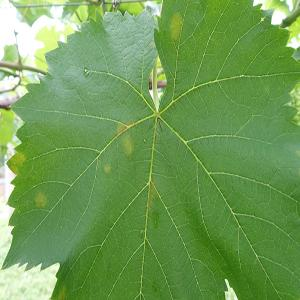Folha: (1, 0, 298, 298)
Fungo: (169, 12, 183, 46), (121, 130, 135, 156), (33, 191, 47, 209), (150, 209, 160, 229), (103, 163, 111, 174), (83, 67, 90, 77), (139, 228, 145, 238)
